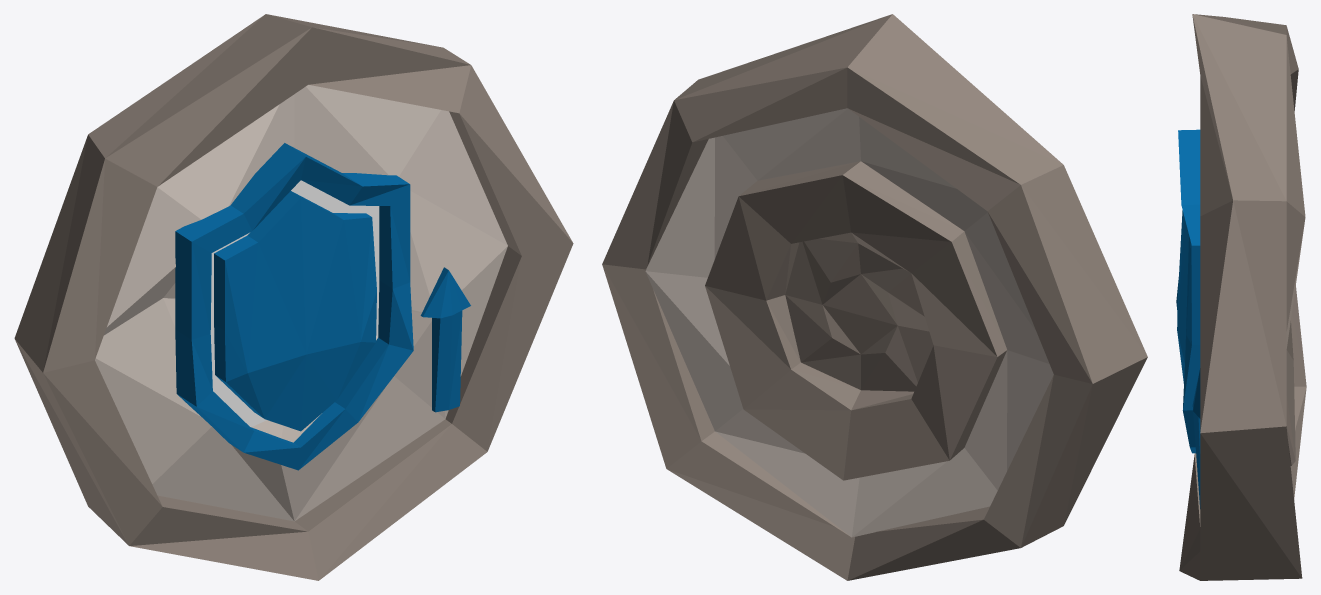
File: item_fly_defense.FBX
3 views of the same model, side by side, from view 1: azimuth 30°, elevation 25°; view 2: azimuth 150°, elevation 25°; view 3: azimuth 270°, elevation 25° (orthographic). The views are drawn at different scales.
Parts seen in each view (by area): view 1: coin; view 2: coin; view 3: coin.
Boxes of the visible parts, left/top/right/bottom form: coin: left=14, top=14, right=573, bottom=580; coin: left=602, top=14, right=1147, bottom=580; coin: left=1176, top=14, right=1306, bottom=580.
Size of the model in its own units: 31.09 by 30.75 by 6.52.
Materials: 1 (1 with a texture image).
